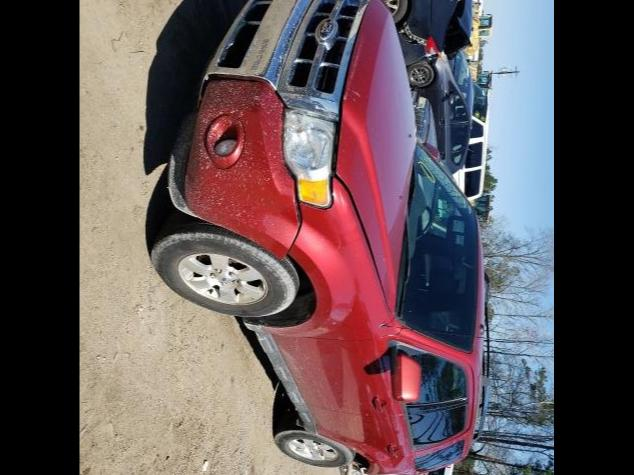Broken part: (194, 70, 288, 114), (280, 162, 306, 260), (350, 462, 367, 475)
Scratch: (344, 34, 364, 100), (346, 86, 362, 98)
